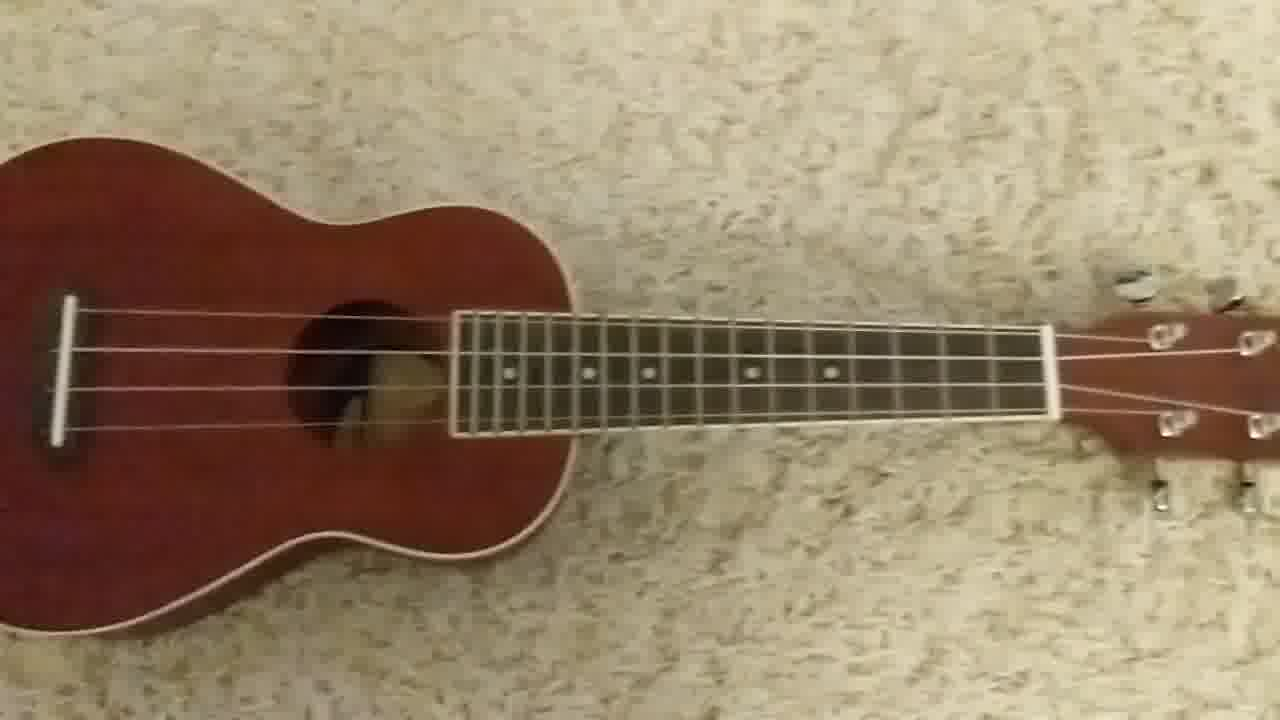Body: (1, 128, 581, 640)
Bridge: (43, 290, 90, 453)
Headstock: (1058, 265, 1280, 524)
